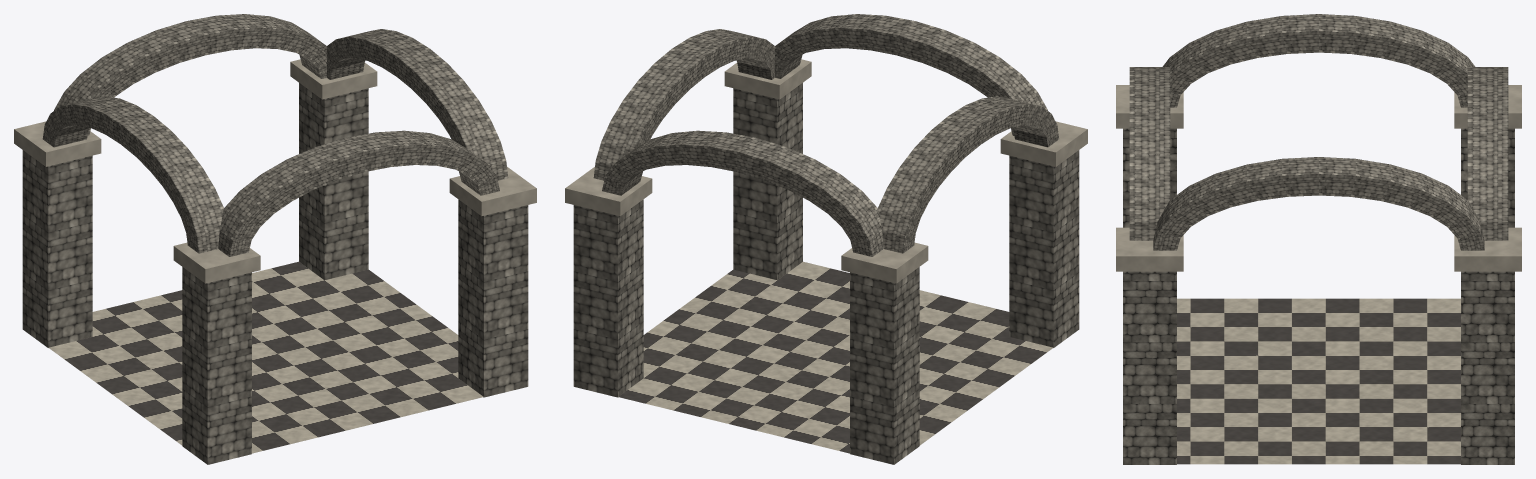
The model's file is Vault_Dwarf_1.gltf.
3 views of the same model, side by side, from view 1: azimuth 30°, elevation 25°; view 2: azimuth 150°, elevation 25°; view 3: azimuth 270°, elevation 25° (orthographic). The views are drawn at different scales.
Parts seen in each view (by area): view 1: Vault_Dwarf_1; view 2: Vault_Dwarf_1; view 3: Vault_Dwarf_1.
Boxes of the visible parts, x1,y1,x2,y2 form: Vault_Dwarf_1: (14, 14, 536, 464); Vault_Dwarf_1: (565, 14, 1087, 464); Vault_Dwarf_1: (1116, 14, 1521, 464).
Bounding box in the file's own units: 6 × 4.7 × 6.
3 materials, 3 textured.
